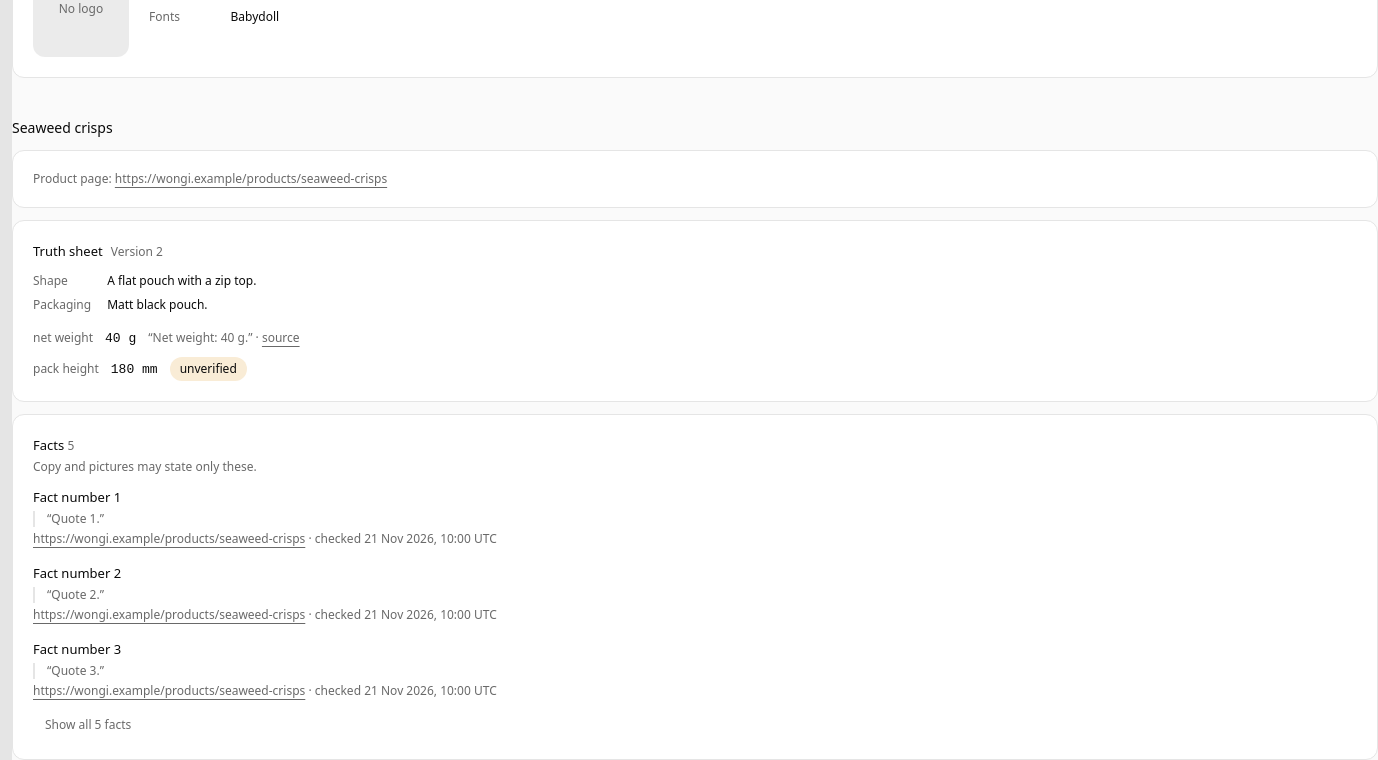
Test: Brand page › shows the first three facts of a long list, and the rest at a click
This screenshot has width=1378, height=760.
(page scrolled)
Check: the text "Fact number 3" is shown, box [33,640,121,658]
Check: the text "Fact number 4" is not shown
What coordinates should you click on to do the following:
click the button "Show all 5 facts"
I would click on:
 (88, 725)
Its box is [33,711,143,739].
(page scrolled)
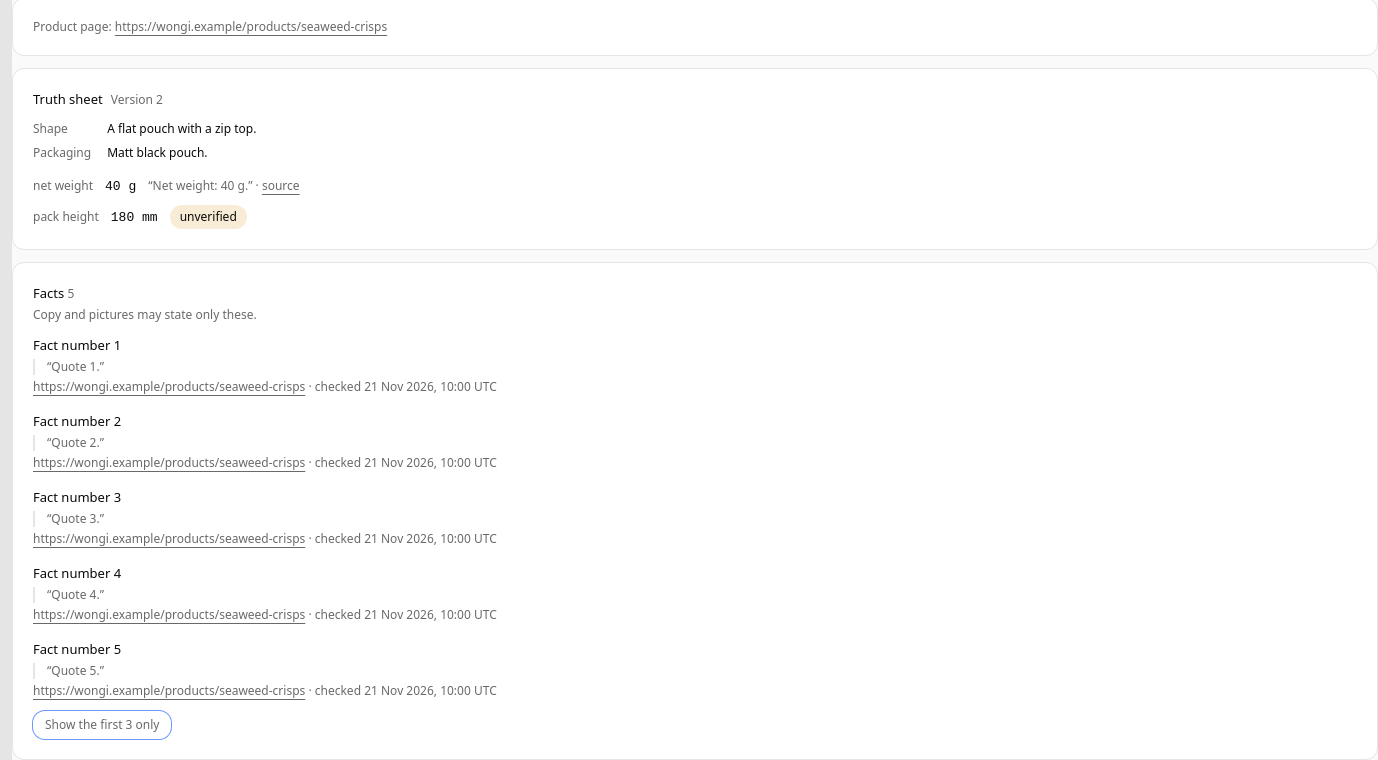
Check: the text "Fact number 5" is shown, box [33,640,121,658]
